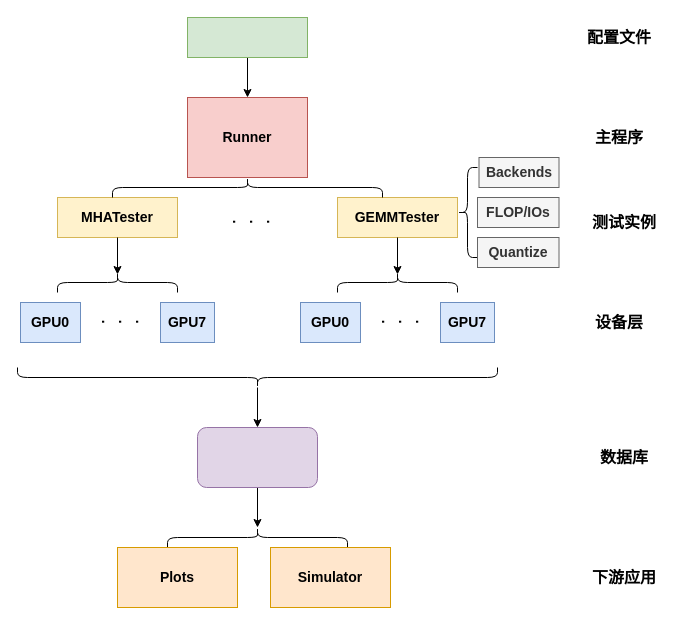
Some shapes in this 696 by 625 pixel diagram are drawn without their labels. The shapes that lost their labels are listed below. From the top down, each one's centre as x and y in pixels, then its label:
At (x=247, y=37): "config".
At (x=257, y=457): "B200.db".
